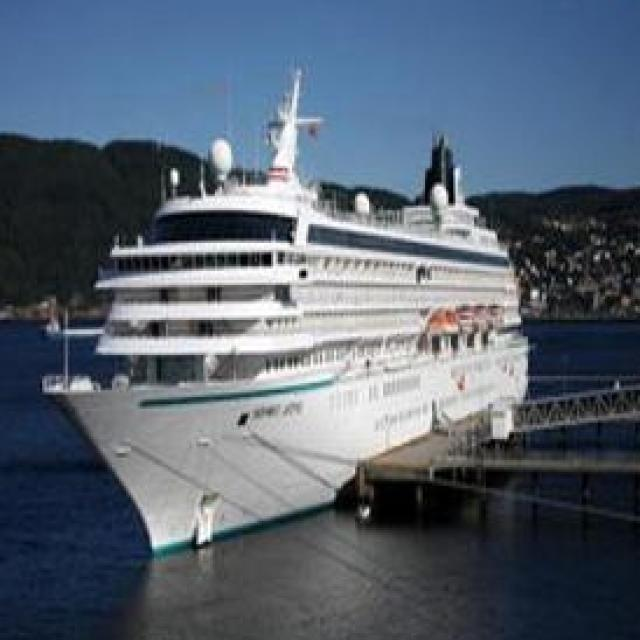passenger ship: (48, 65, 531, 562)
